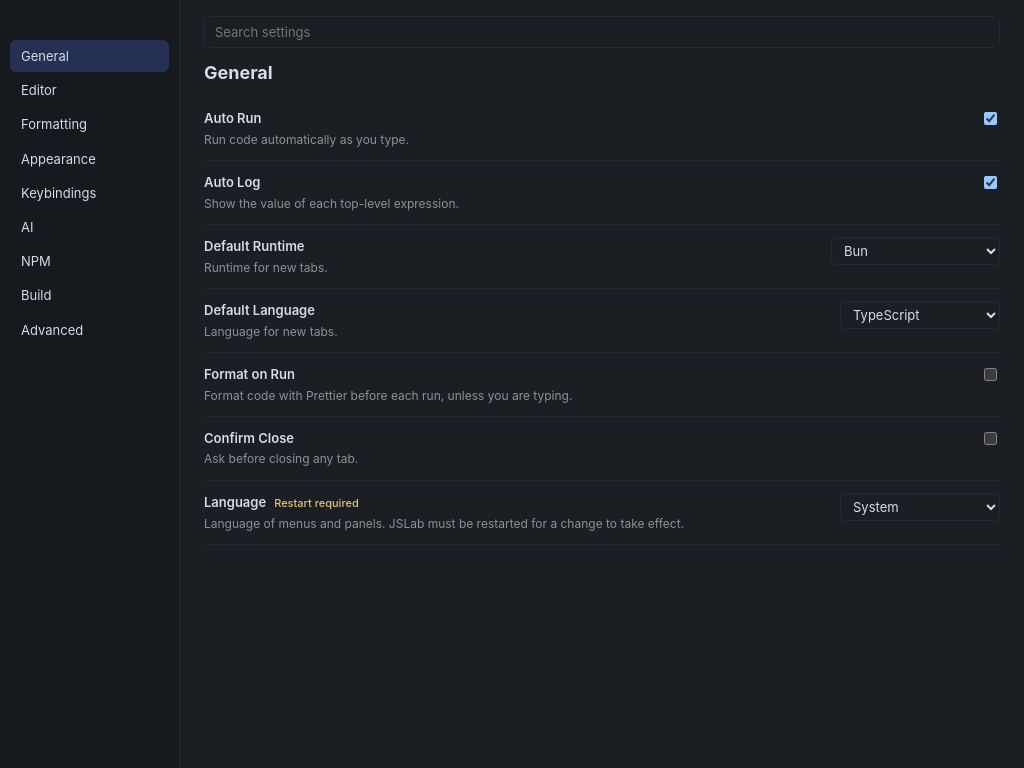
Test case: SettingsApp › shows help text, switches tabs, applies toggles through Main and searches across tabs
The width and height of the screenshot is (1024, 768).
Expected: the text "Run code automatically as you type." is shown, [204,132,409,148]
Click the tab "Editor" at (90, 90), box [10,74,169,106]
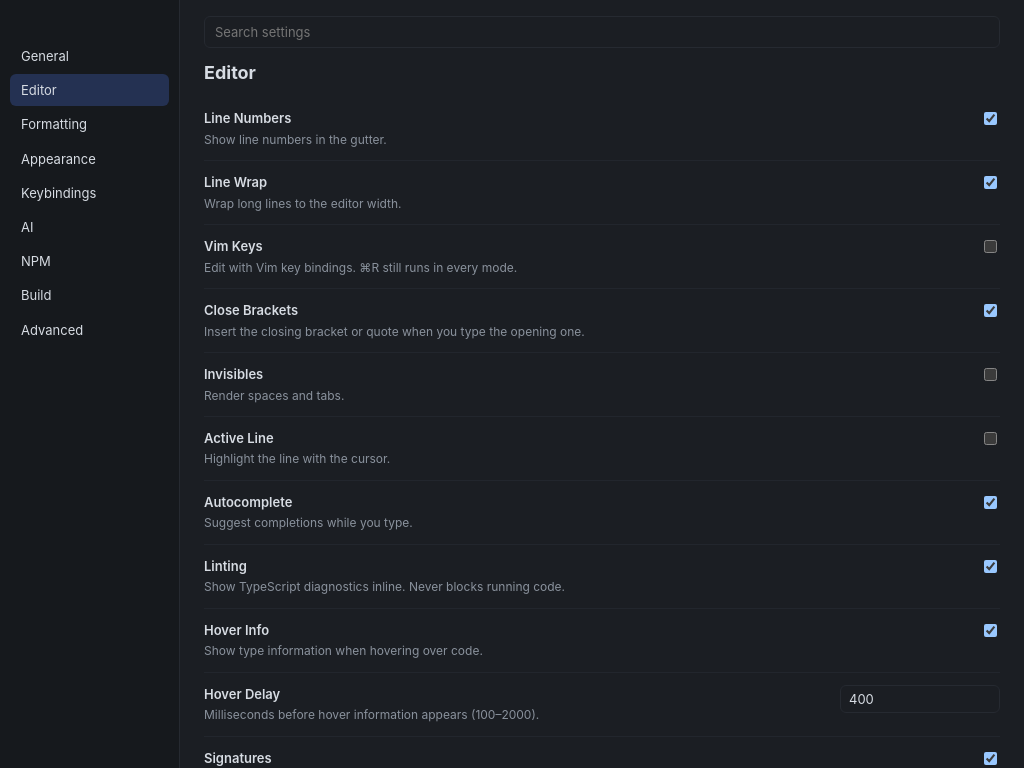
Click the checkbox labelled "Line Wrap" at (990, 183), box [984,176,997,189]
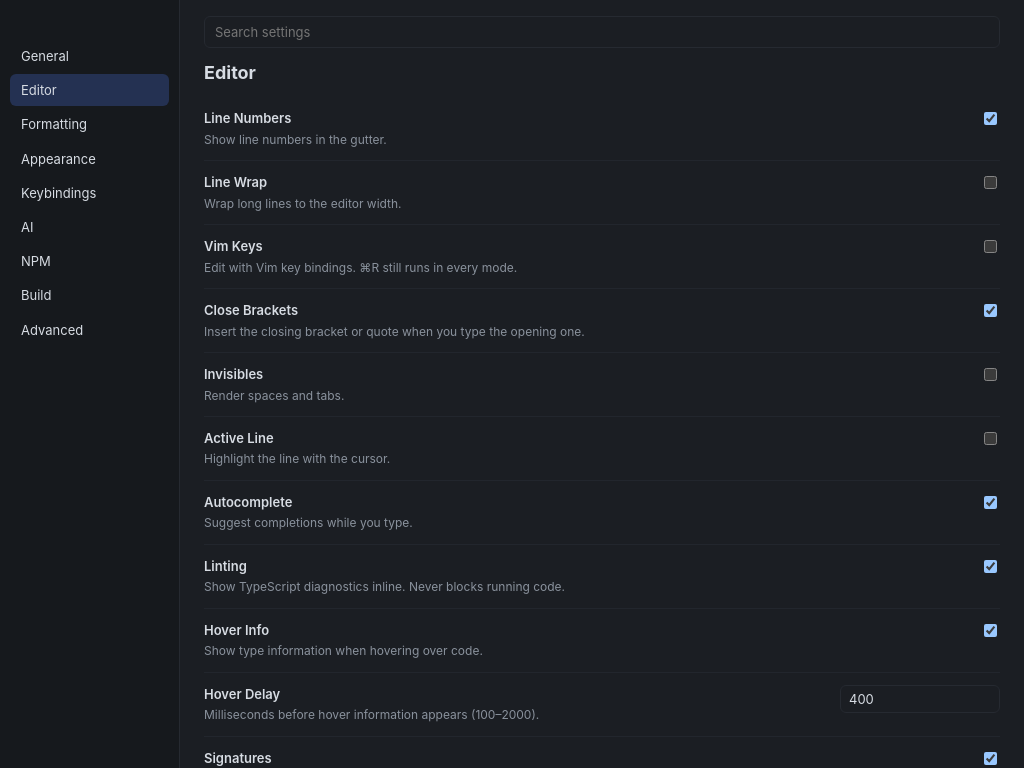
Result: the checkbox labelled "Line Wrap" is not checked at [984,176,997,189]
Type "print width" into the search field at (602, 32), box [204,16,1000,48]
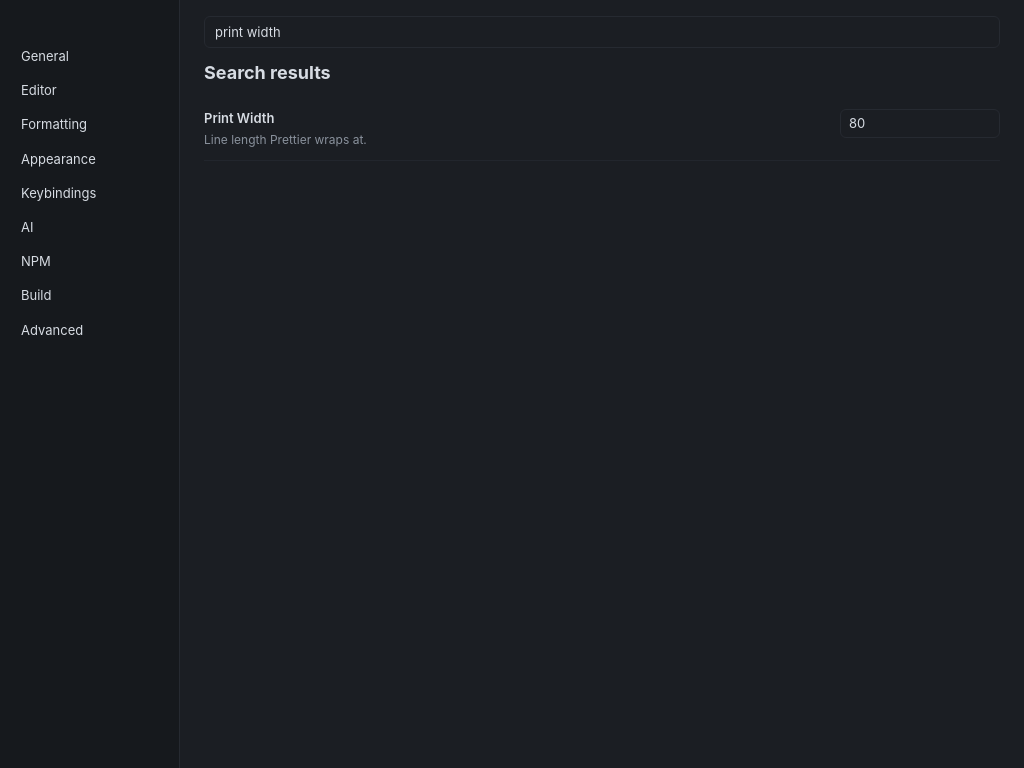
Result: the number field labelled "Print Width" is shown at [840,109,1000,138]
Result: the label labelled "Line Wrap" is gone
